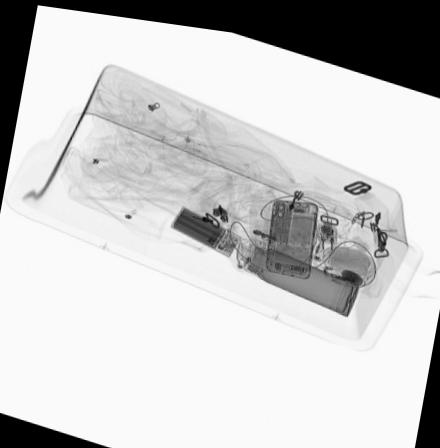Powerbank: (166, 197, 243, 251)
